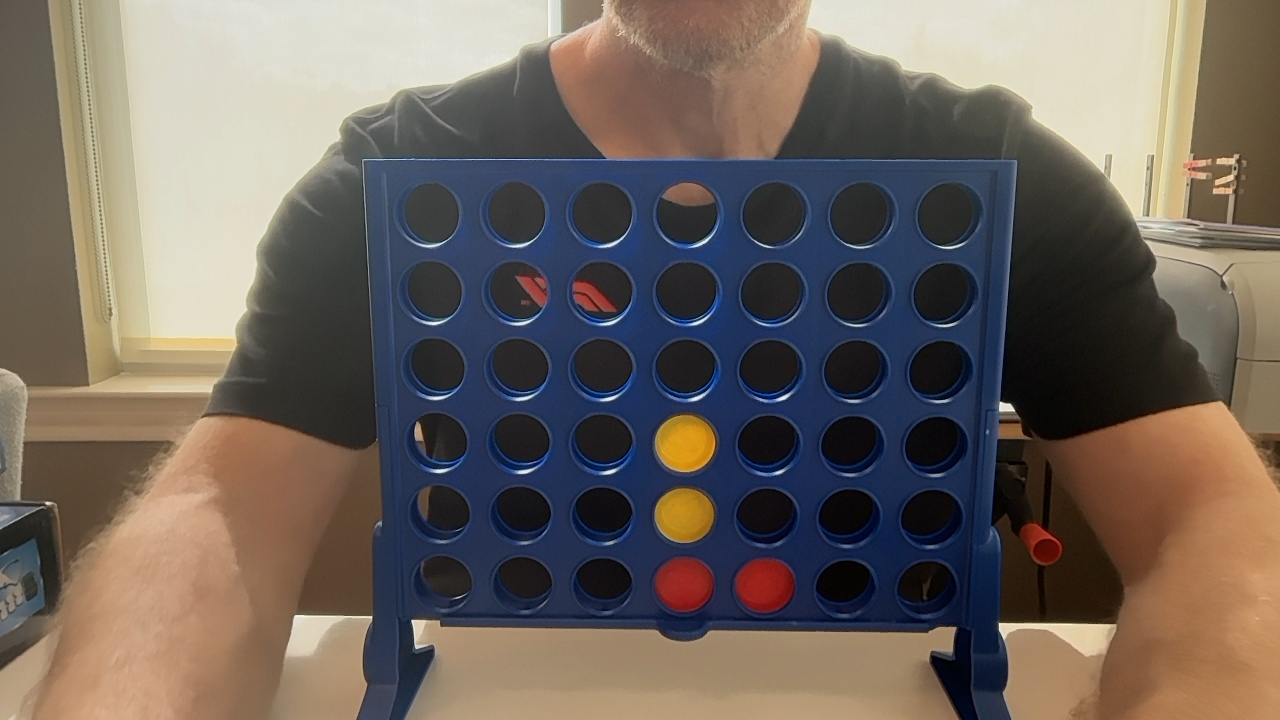red piece: (654, 557, 714, 613), (734, 558, 794, 613)
yellow piece: (655, 415, 716, 472), (654, 487, 714, 543)
